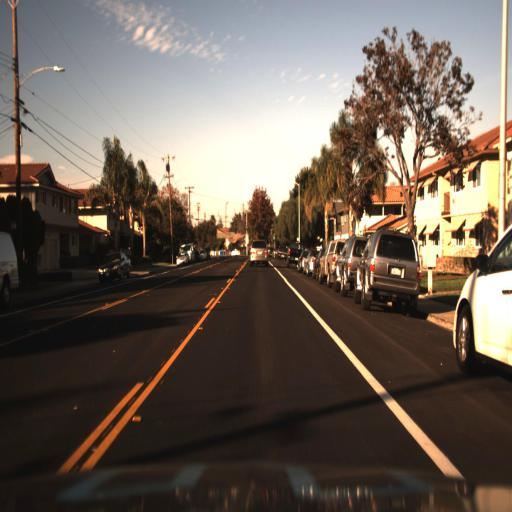car: (451, 219, 512, 384), (357, 224, 425, 317), (352, 223, 423, 307), (335, 230, 364, 302), (93, 245, 131, 291), (334, 229, 356, 294), (95, 247, 132, 285), (248, 232, 271, 270), (318, 241, 334, 291), (174, 248, 190, 267)
